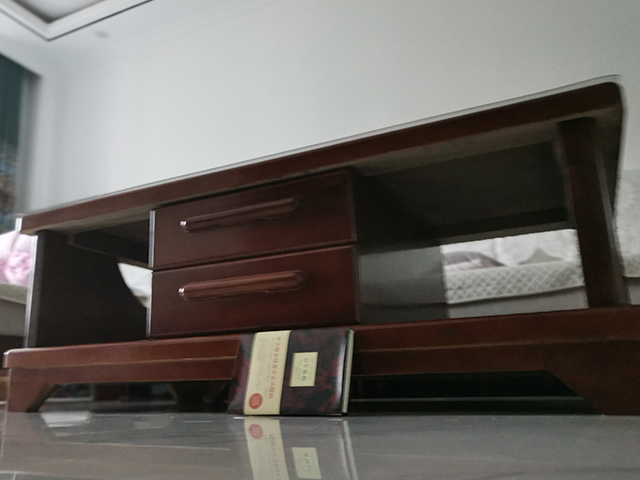book: (223, 324, 357, 418)
table: (1, 70, 640, 417)
